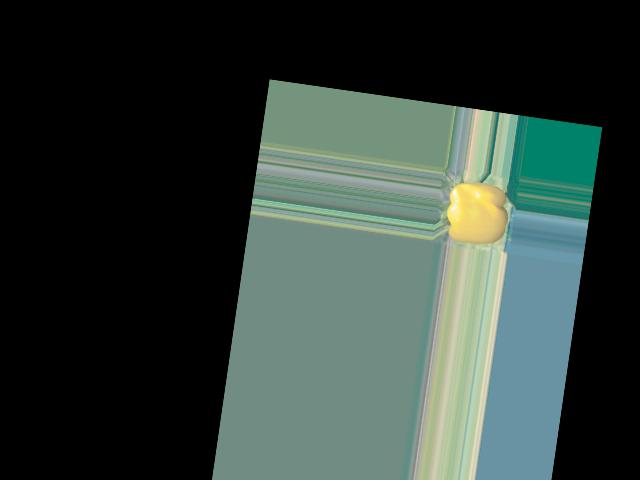bell_pepper: (437, 173, 513, 251)
